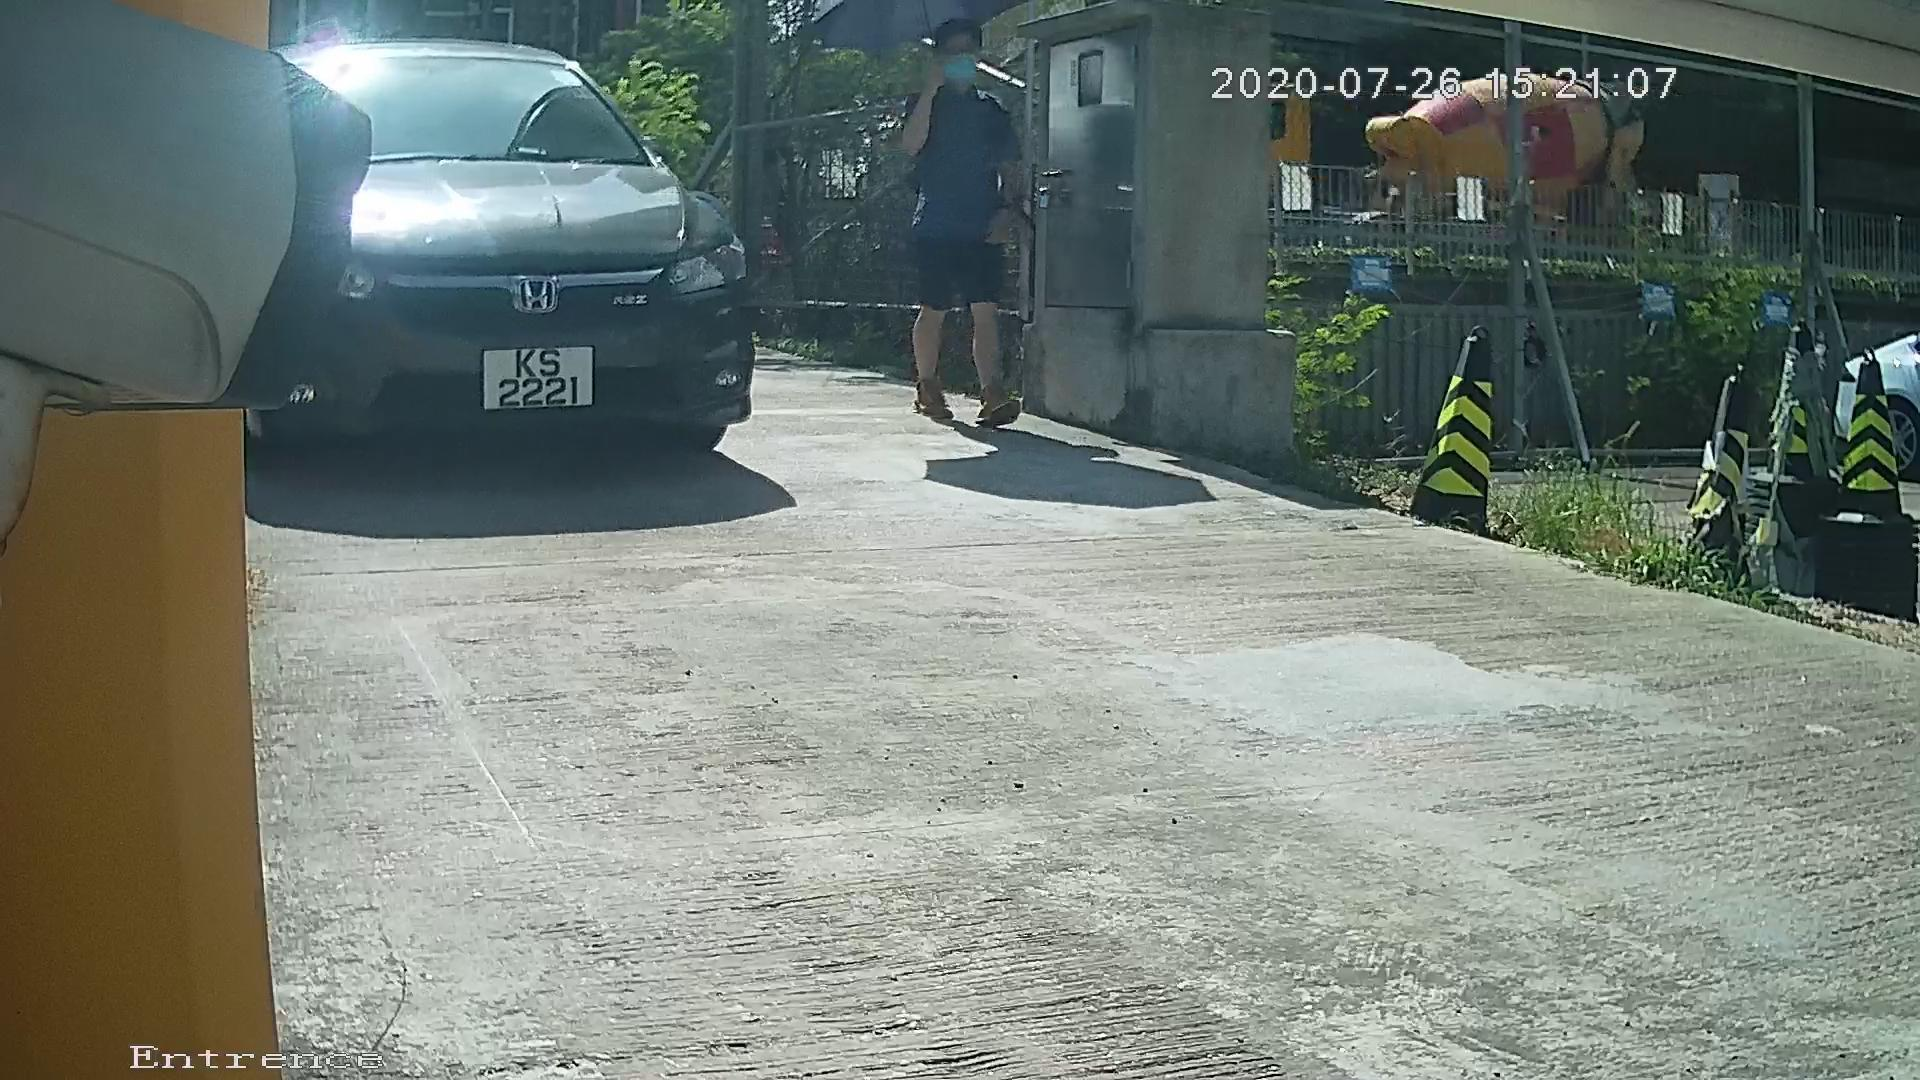privatecar: (156, 11, 823, 545)
